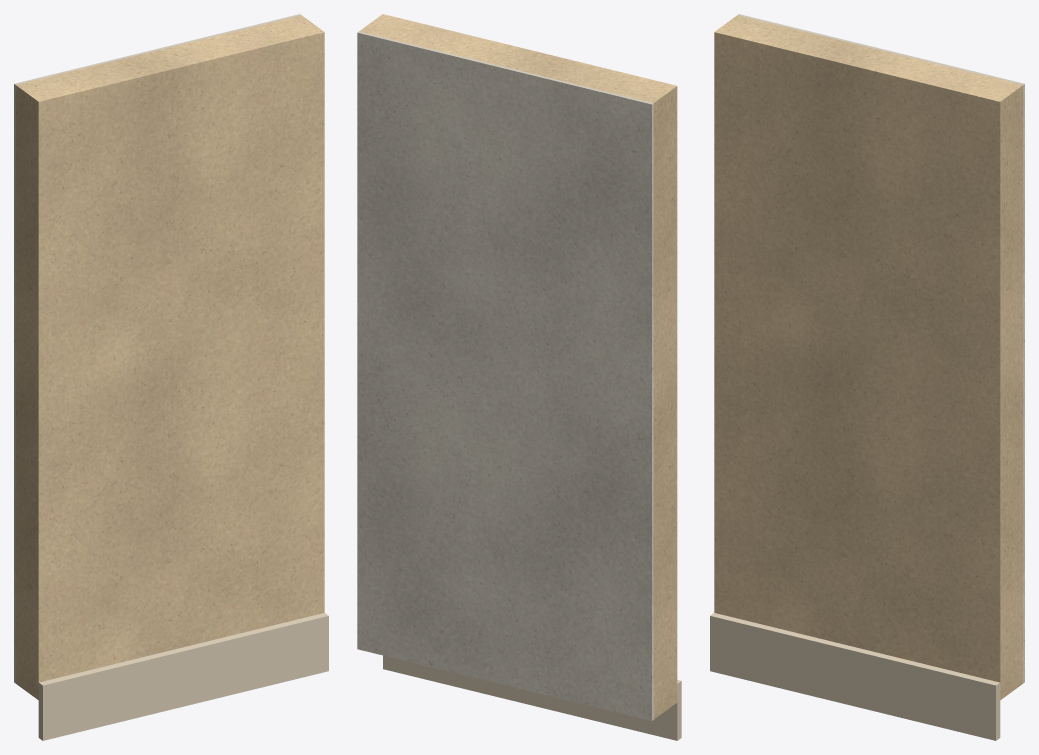
Rendered from wall_render_plain.glb.
3 views of the same model, side by side, from view 1: azimuth 30°, elevation 25°; view 2: azimuth 150°, elevation 25°; view 3: azimuth 330°, elevation 25° (orthographic). The views are drawn at different scales.
Visible parts, largest first — view 1: wall_render_plain_render, wall_render_plain_band, wall_render_plain_plaster; view 2: wall_render_plain_plaster, wall_render_plain_render, wall_render_plain_band; view 3: wall_render_plain_render, wall_render_plain_band, wall_render_plain_plaster.
Part boxes in pixels (x1=…): wall_render_plain_render: x1=15, y1=15, x2=324, y2=699; wall_render_plain_band: x1=38, y1=613, x2=328, y2=740; wall_render_plain_plaster: x1=14, y1=14, x2=301, y2=683; wall_render_plain_plaster: x1=357, y1=31, x2=653, y2=720; wall_render_plain_render: x1=359, y1=14, x2=677, y2=719; wall_render_plain_band: x1=383, y1=655, x2=681, y2=740; wall_render_plain_render: x1=714, y1=15, x2=1023, y2=699; wall_render_plain_band: x1=710, y1=613, x2=1000, y2=740; wall_render_plain_plaster: x1=737, y1=14, x2=1024, y2=683.
Size of the model in its own units: 2 by 4.25 by 0.35.
Materials: 3 (2 with a texture image).
